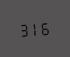one: (30, 20, 40, 36)
six: (41, 19, 51, 35)
three: (18, 21, 28, 37)
